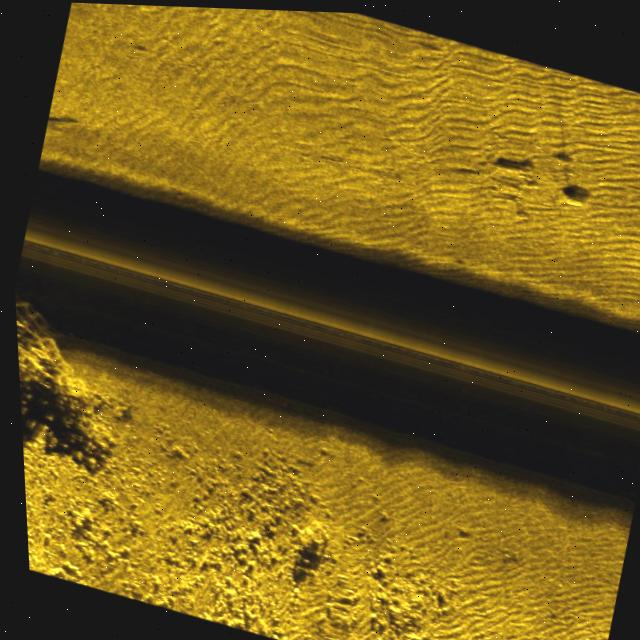artificial reef: (11, 266, 132, 468)
